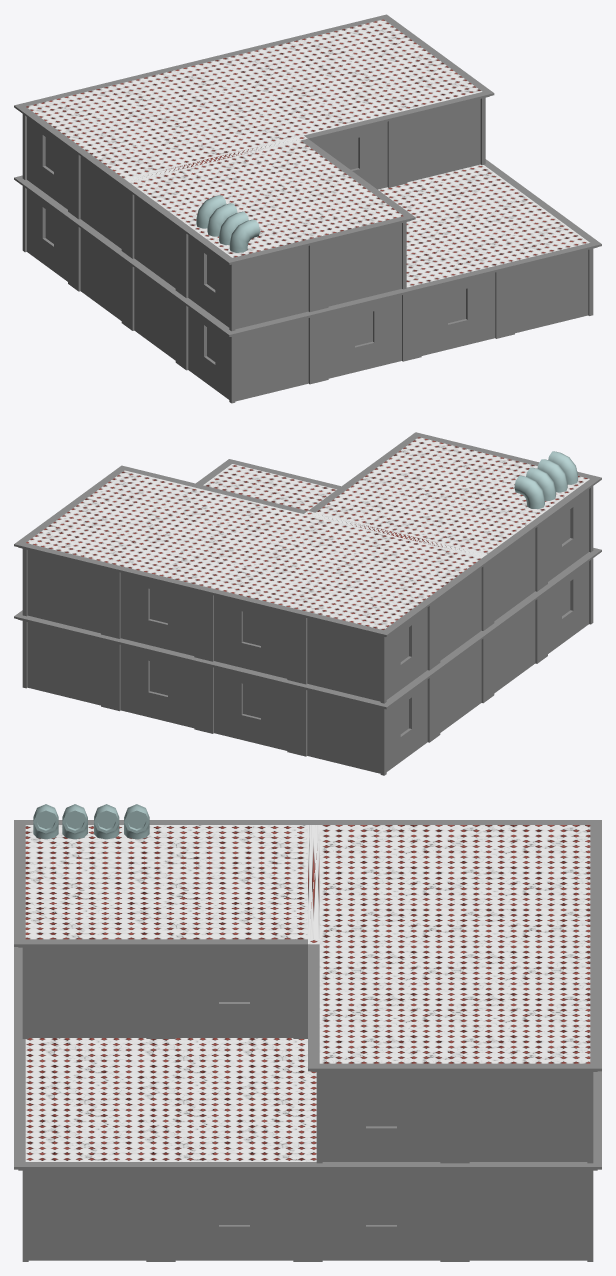
Rendered from EdificioRestaurante.FBX.
The picture shows the model from 3 angles, top to bottom: view 1: azimuth 30°, elevation 25°; view 2: azimuth 150°, elevation 25°; view 3: azimuth 270°, elevation 25°; orthographic projection. The views are drawn at different scales.
Parts seen in each view (by area): view 1: Object001; view 2: Object001; view 3: Object001.
Part boxes in pixels (bbox=[...]): Object001: bbox=[14, 14, 601, 403]; Object001: bbox=[14, 432, 601, 775]; Object001: bbox=[14, 804, 601, 1261].
Size of the model in its own units: 2000 by 871 by 2000.
Materials: 2 (1 with a texture image).
